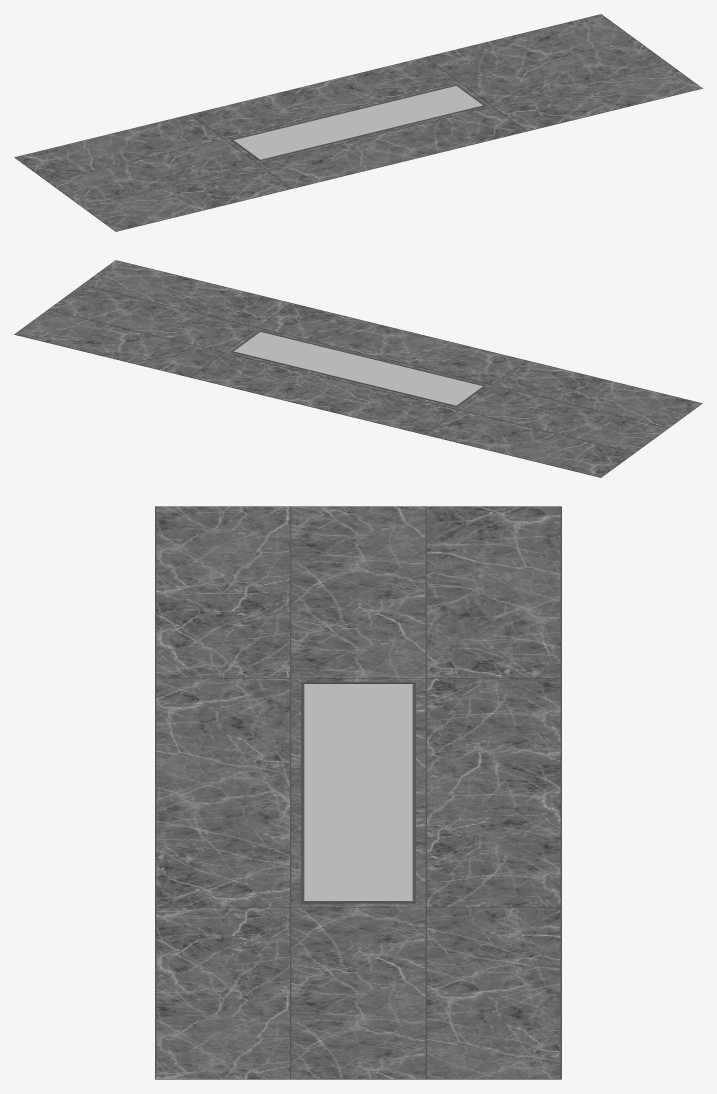
The picture shows the model from 3 angles, top to bottom: view 1: azimuth 30°, elevation 25°; view 2: azimuth 150°, elevation 25°; view 3: azimuth 270°, elevation 25°; orthographic projection. The views are drawn at different scales.
Visible parts, largest first — view 1: M_F_301_c_20x6, M_F_301_c_20x6_glass; view 2: M_F_301_c_20x6, M_F_301_c_20x6_glass; view 3: M_F_301_c_20x6, M_F_301_c_20x6_glass.
Boxes of the visible parts, <box> form: M_F_301_c_20x6: <box>14,14,702,231</box>; M_F_301_c_20x6_glass: <box>234,86,482,159</box>; M_F_301_c_20x6: <box>14,260,702,477</box>; M_F_301_c_20x6_glass: <box>234,332,482,405</box>; M_F_301_c_20x6: <box>155,506,561,1079</box>; M_F_301_c_20x6_glass: <box>304,684,412,900</box>.
Bounding box in the file's own units: 20 × 0.41 × 6.
